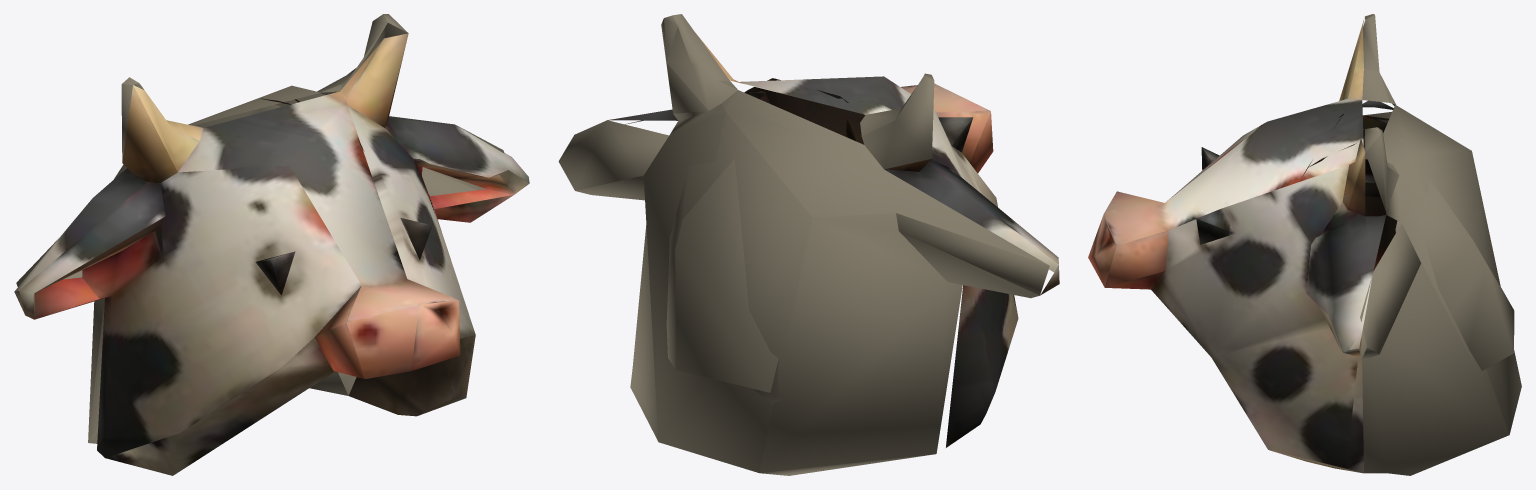
File: cow.glb
3 views of the same model, side by side, from view 1: azimuth 30°, elevation 25°; view 2: azimuth 150°, elevation 25°; view 3: azimuth 270°, elevation 25° (orthographic). The views are drawn at different scales.
Parts seen in each view (by area): view 1: geometry_0; view 2: geometry_0; view 3: geometry_0.
Boxes of the visible parts, box(x1,y1,x2,y2) form: geometry_0: box(14, 14, 529, 475); geometry_0: box(558, 14, 1059, 475); geometry_0: box(1088, 14, 1521, 475).
Size of the model in its own units: 0.5744 by 0.421 by 0.4685.
2 materials, 1 textured.
